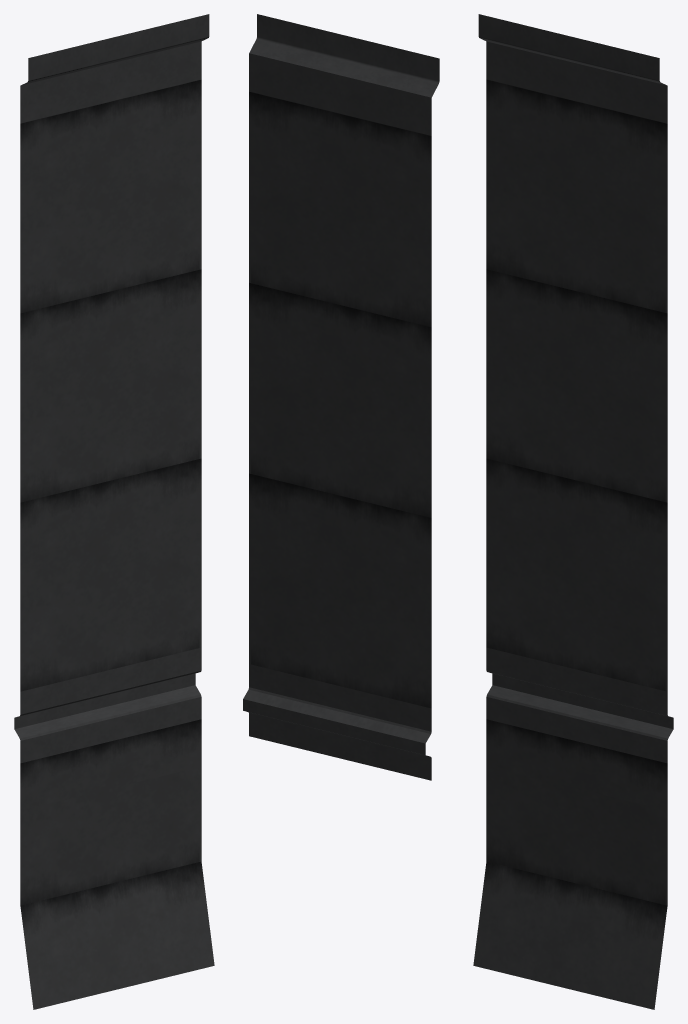
File: M_Wall_Straight_4x20_v4.fbx
3 renders of one model, left to right at view 1: azimuth 30°, elevation 25°; view 2: azimuth 150°, elevation 25°; view 3: azimuth 330°, elevation 25°, orthographic.
Parts seen in each view (by area): view 1: Wall_Straight_4x20_v4; view 2: Wall_Straight_4x20_v4; view 3: Wall_Straight_4x20_v4.
Boxes of the visible parts, x1,y1,x2,y2 form: Wall_Straight_4x20_v4: (14,14,214,1009); Wall_Straight_4x20_v4: (243,14,439,780); Wall_Straight_4x20_v4: (473,14,673,1009).
Size of the model in its own units: 400 by 2000 by 73.02.
